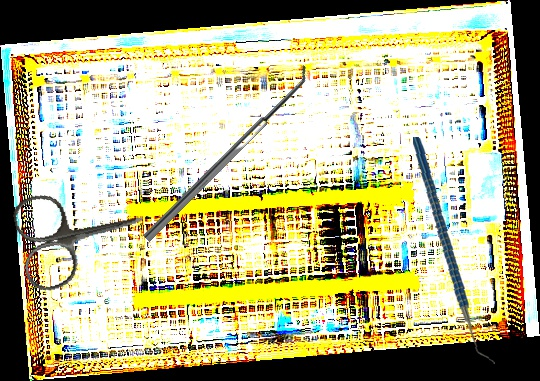Chopper: (401, 137, 507, 364)
Iris Scissors: (9, 173, 155, 295)
Spatula Surgical: (136, 63, 316, 243)
